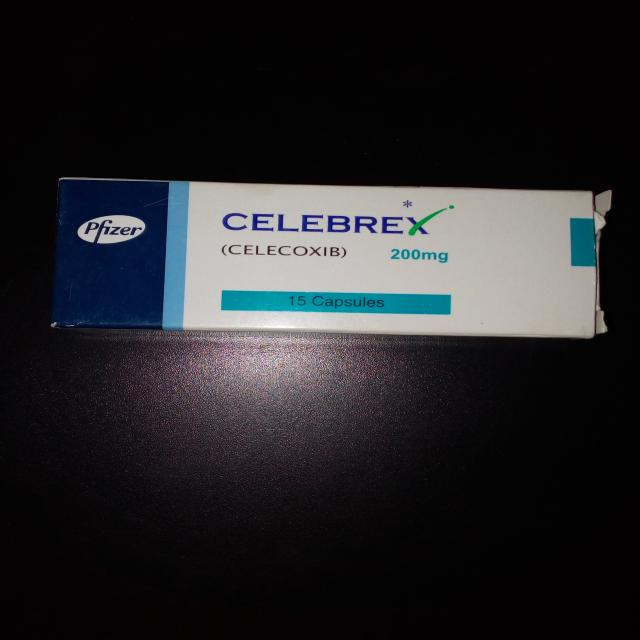Medicine: (51, 172, 611, 342)
